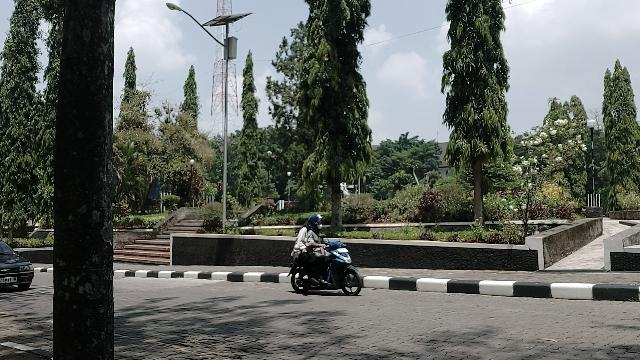helm: (309, 214, 326, 232)
motor: (288, 237, 365, 298)
